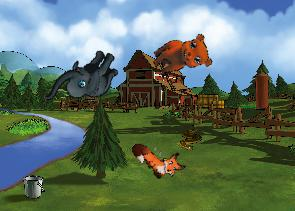bear: (147, 26, 217, 89)
elephant: (43, 35, 124, 122)
fox: (128, 127, 189, 188)
